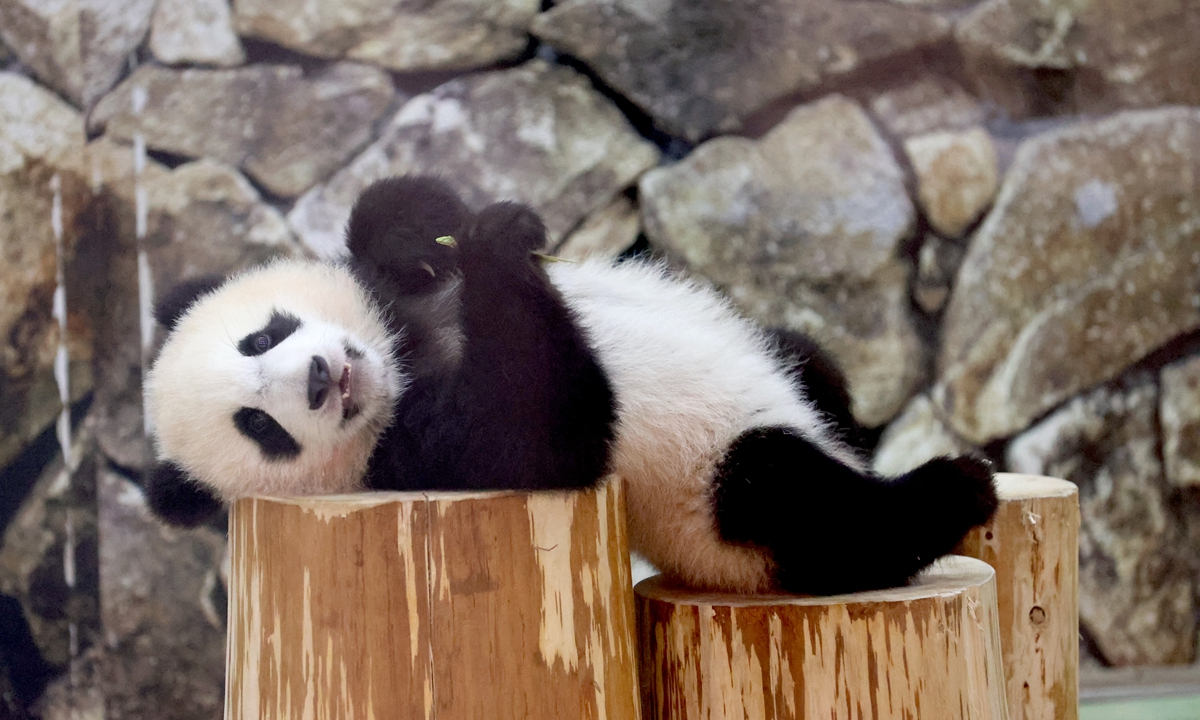Giant panda: (145, 254, 402, 529)
